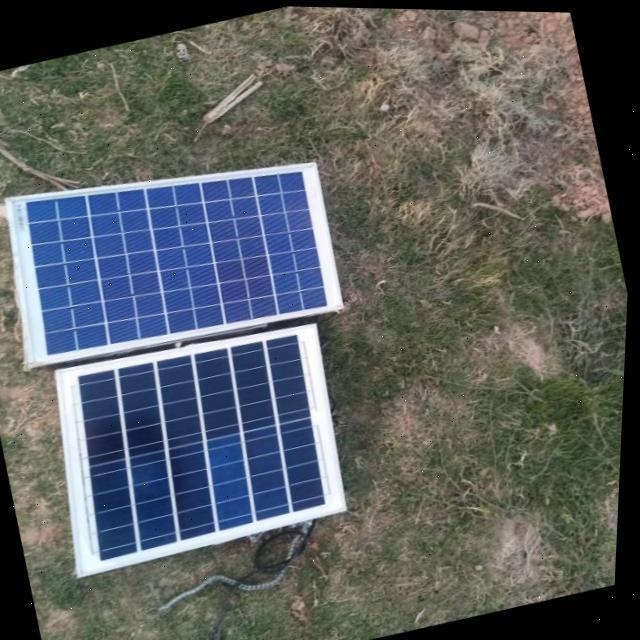Normal Solar Panel: (0, 125, 354, 382), (32, 307, 364, 581)
